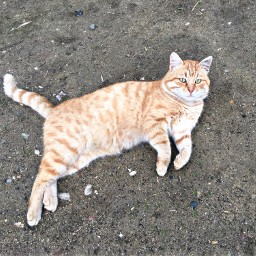cat: (1, 51, 219, 228)
